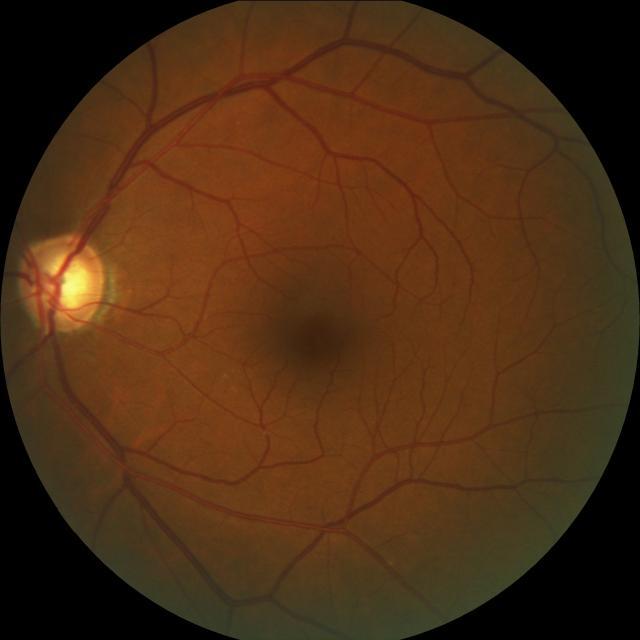OC: (40, 253, 90, 311)
OD: (18, 229, 108, 334)
